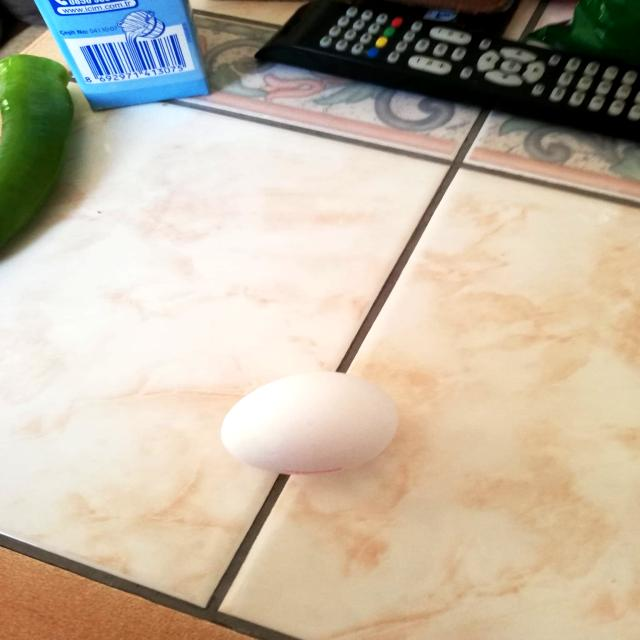egg: (212, 364, 408, 481)
